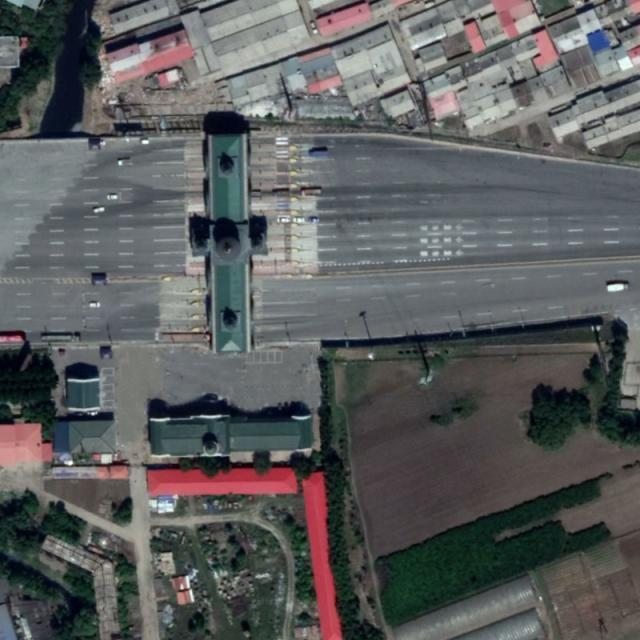vehicle: (159, 332, 210, 342), (39, 334, 82, 343), (306, 146, 330, 157), (606, 282, 630, 292), (301, 186, 322, 197), (271, 189, 291, 198), (118, 158, 133, 166), (93, 206, 106, 213), (106, 194, 118, 200), (89, 302, 101, 308), (276, 217, 290, 222), (308, 217, 319, 223), (294, 217, 306, 222)
